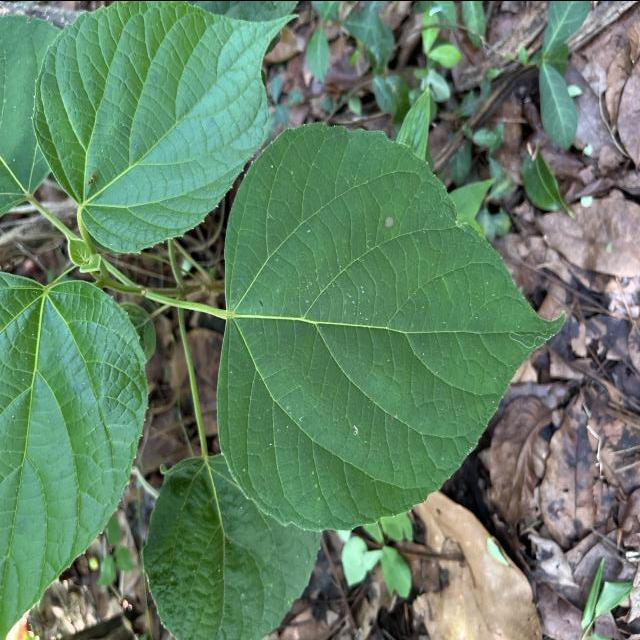Clerodendrum infortunatum: (216, 115, 573, 532), (30, 0, 303, 254)
